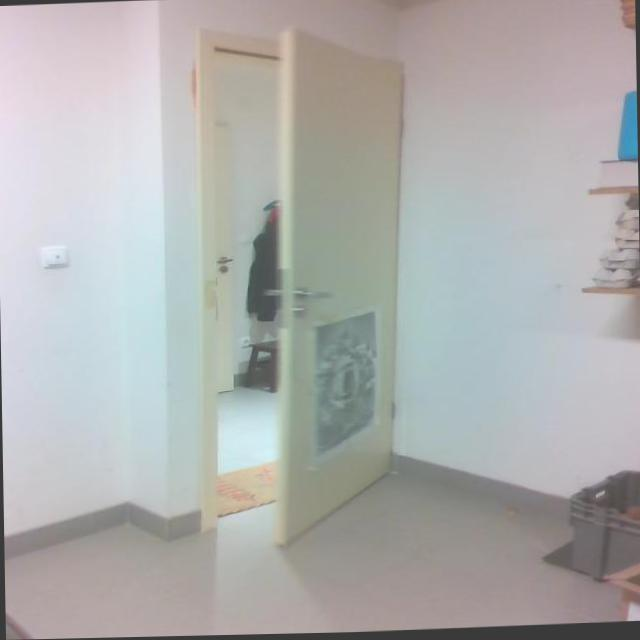semi-open: (172, 5, 424, 571)
